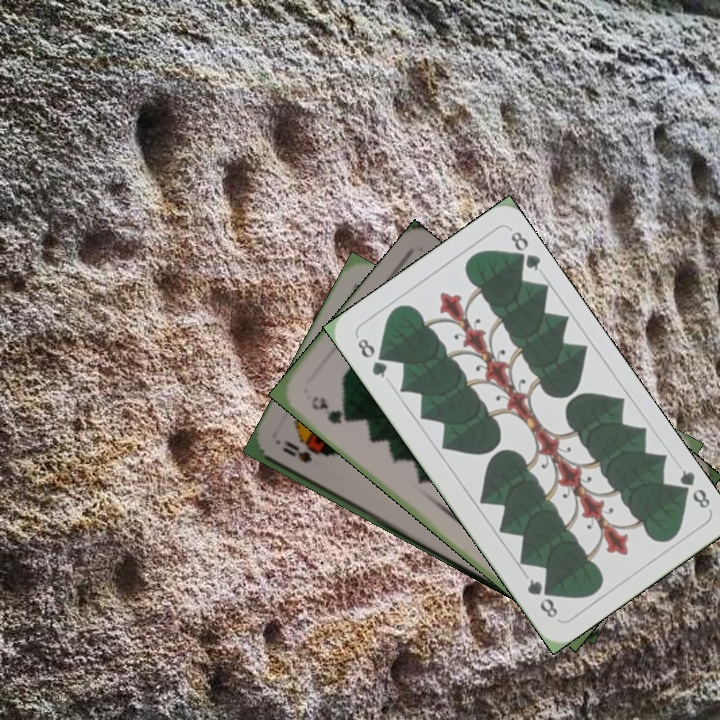G8: (671, 465, 713, 512), (353, 334, 390, 381)
G9: (307, 392, 352, 427)
SO: (278, 436, 315, 466)
